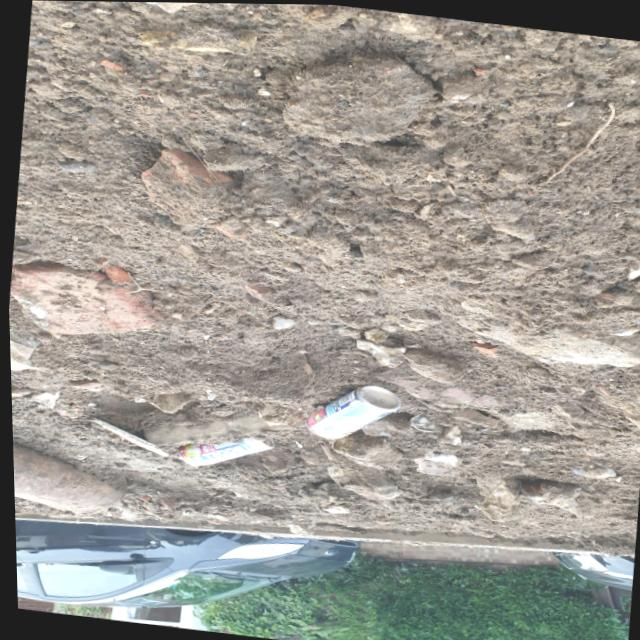Can-Metal: (295, 375, 406, 450), (168, 420, 278, 478)
